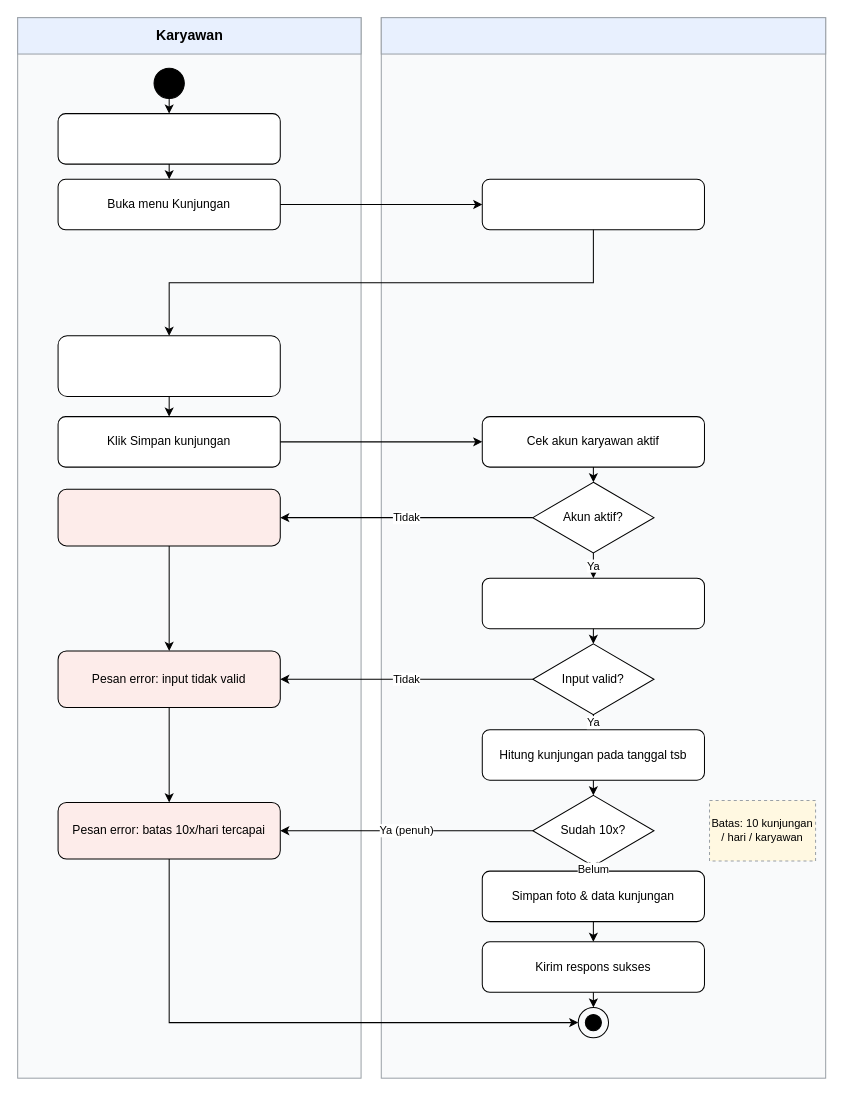
This 843x1096 diagram has some shape labels left out. The centre of each missing label's shape, as x and y in pixels:
"Isi judul, tanggal & foto kunjungan" belongs at [168,365].
"Login sebagai karyawan" belongs at [168,138].
"Pesan error: akun belum terhubung" belongs at [168,517].
"Sistem" belongs at [603,35].
"Tampilkan rekap bulan + form kunjungan" belongs at [592,204].
"Validasi judul, tanggal & foto" belongs at [592,603].
